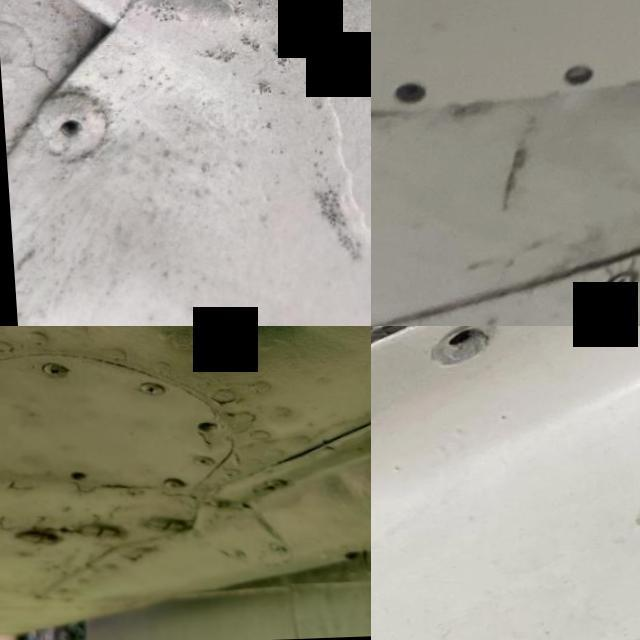Dent: (120, 326, 332, 394)
Missing_Fastener: (424, 326, 497, 373), (176, 406, 230, 454), (49, 455, 96, 500), (382, 72, 429, 112), (541, 64, 602, 92)
